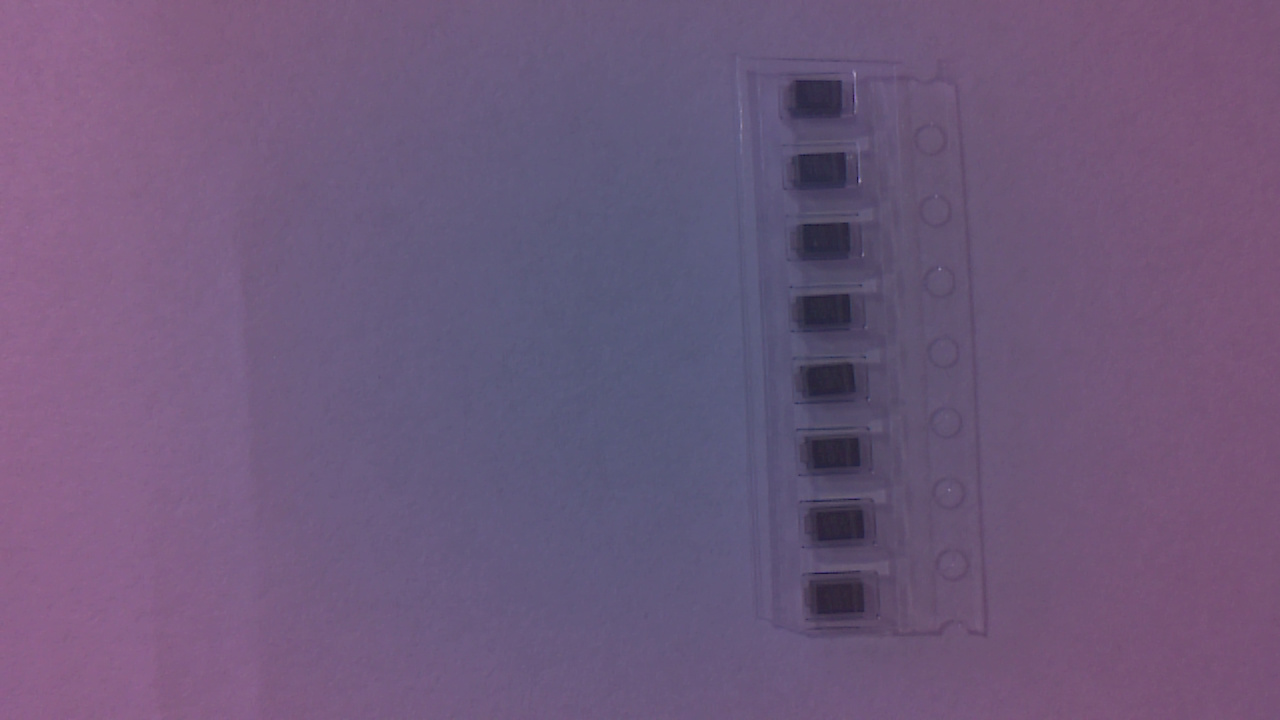Diode: (788, 81, 860, 124), (809, 577, 876, 621), (806, 508, 876, 550), (791, 226, 862, 265), (791, 157, 860, 197), (795, 297, 862, 338), (802, 365, 870, 404), (805, 441, 872, 478)
